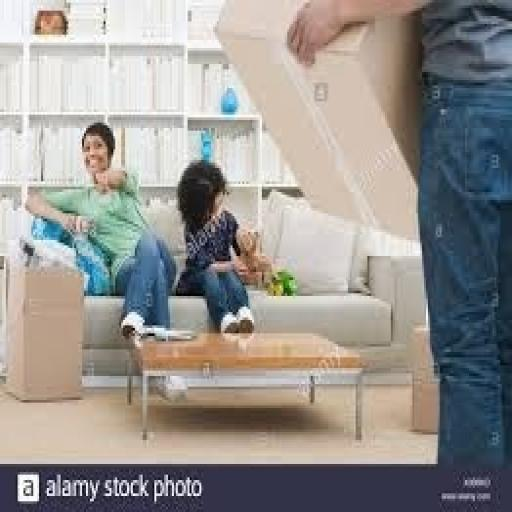sitting: (22, 117, 196, 400)
